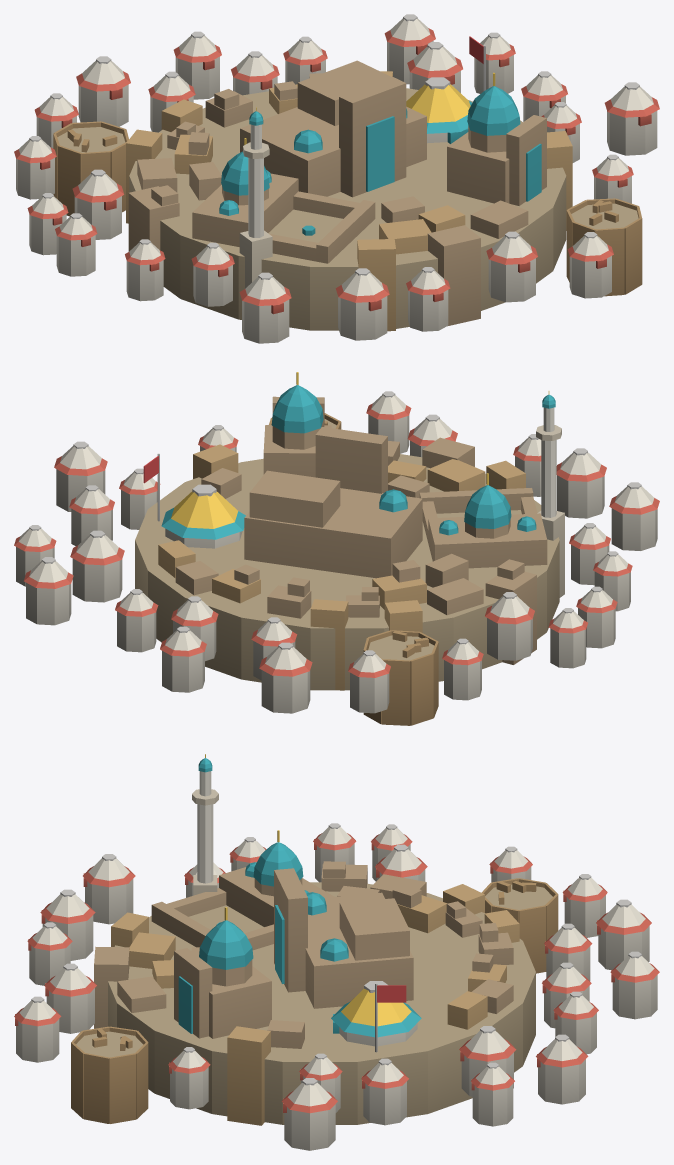
Rendered from city_steppe_a.glb.
3 views of the same model, one above another, from view 1: azimuth 30°, elevation 25°; view 2: azimuth 150°, elevation 25°; view 3: azimuth 270°, elevation 25° (orthographic). The views are drawn at different scales.
Parts seen in each view (by area): view 1: city_steppe_a; view 2: city_steppe_a; view 3: city_steppe_a.
Part boxes in pixels (bbox=[...]): city_steppe_a: bbox=[14, 14, 659, 343]; city_steppe_a: bbox=[14, 372, 659, 725]; city_steppe_a: bbox=[14, 754, 659, 1150].
Bounding box in the file's own units: 3.57 × 1.23 × 3.44.
